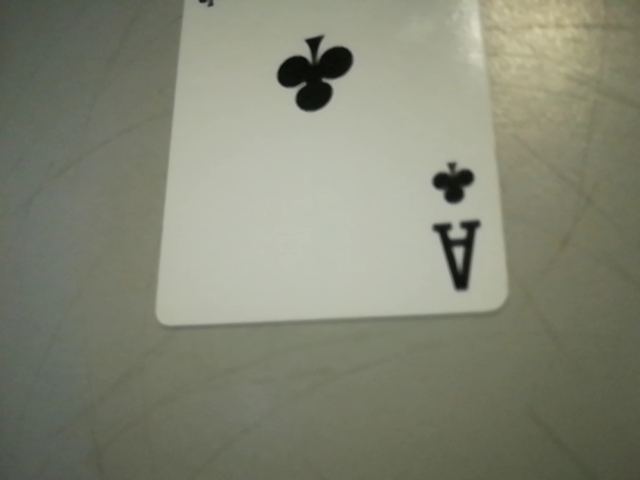mh a: (412, 146, 496, 308)
